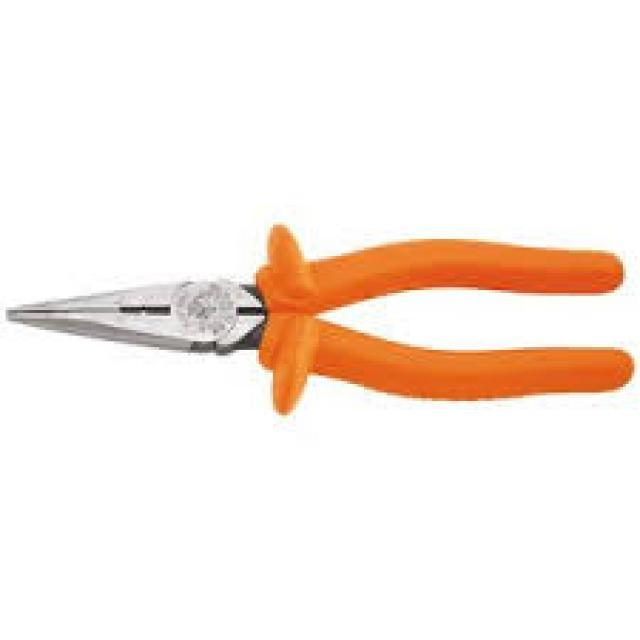pliers: (3, 206, 639, 411)
